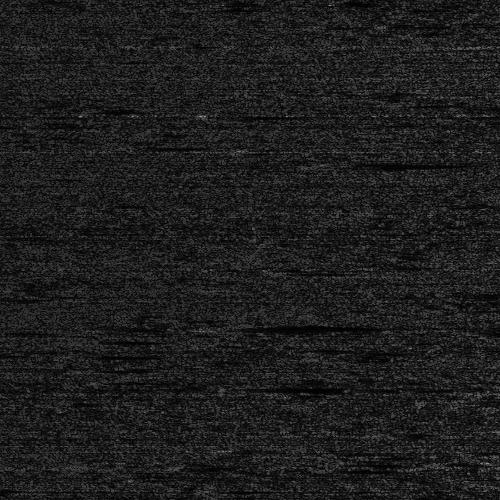rock: (187, 321, 260, 330), (285, 160, 358, 167), (203, 384, 256, 391), (62, 485, 83, 500)
shadow: (224, 321, 371, 330), (322, 160, 417, 167), (230, 384, 312, 391), (73, 485, 90, 500)
